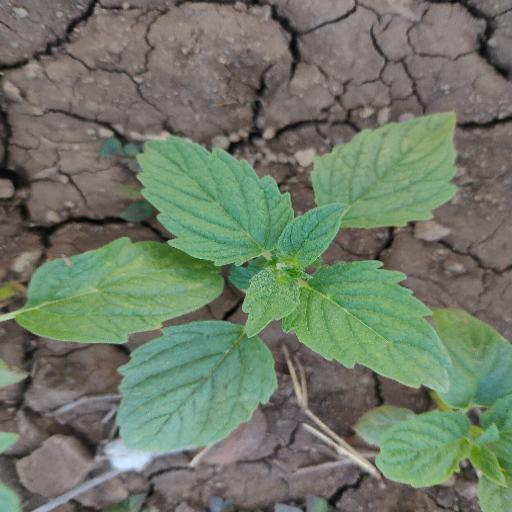crop: (42, 114, 457, 435)
